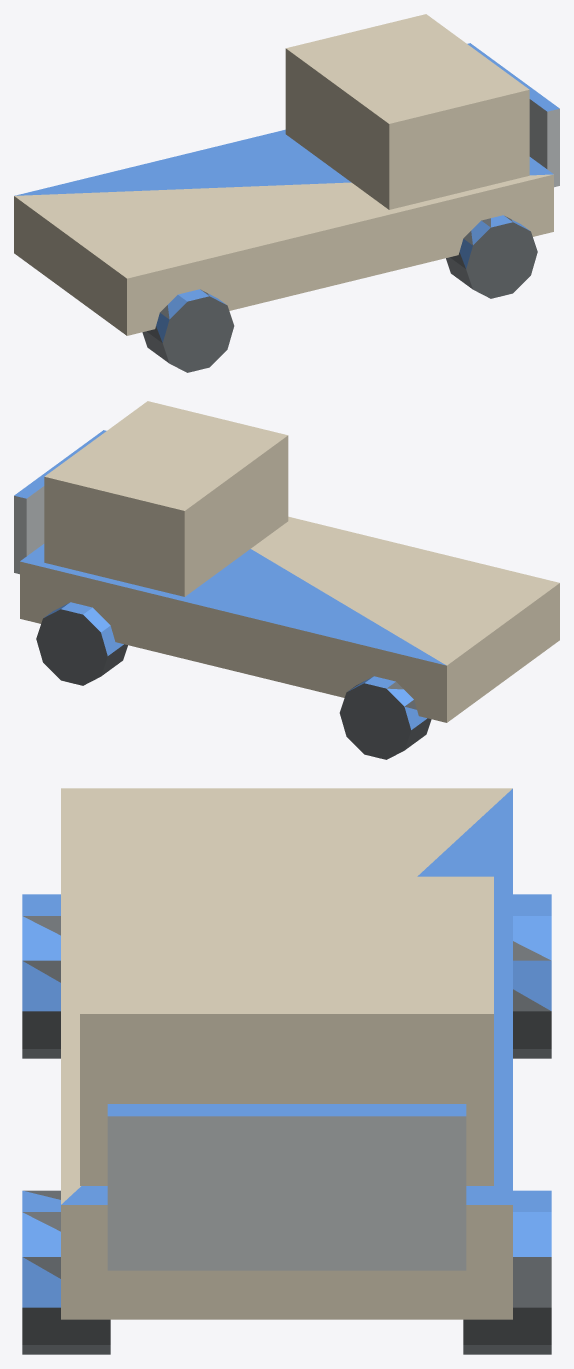
File: meridian_amphibious_transport.glb
3 views of the same model, one above another, from view 1: azimuth 30°, elevation 25°; view 2: azimuth 150°, elevation 25°; view 3: azimuth 270°, elevation 25° (orthographic). The views are drawn at different scales.
Parts seen in each view (by area): view 1: hull, ramp; view 2: hull, ramp; view 3: hull, ramp.
Part boxes in pixels (x1,y1,x2,y2): hull: (14,14,553,372); ramp: (467,43,559,187); hull: (20,401,559,759); ramp: (14,430,106,574); hull: (22,788,551,1354); ramp: (107,1104,466,1270).
Size of the model in its own units: 6.33 by 2.53 by 3.26.
